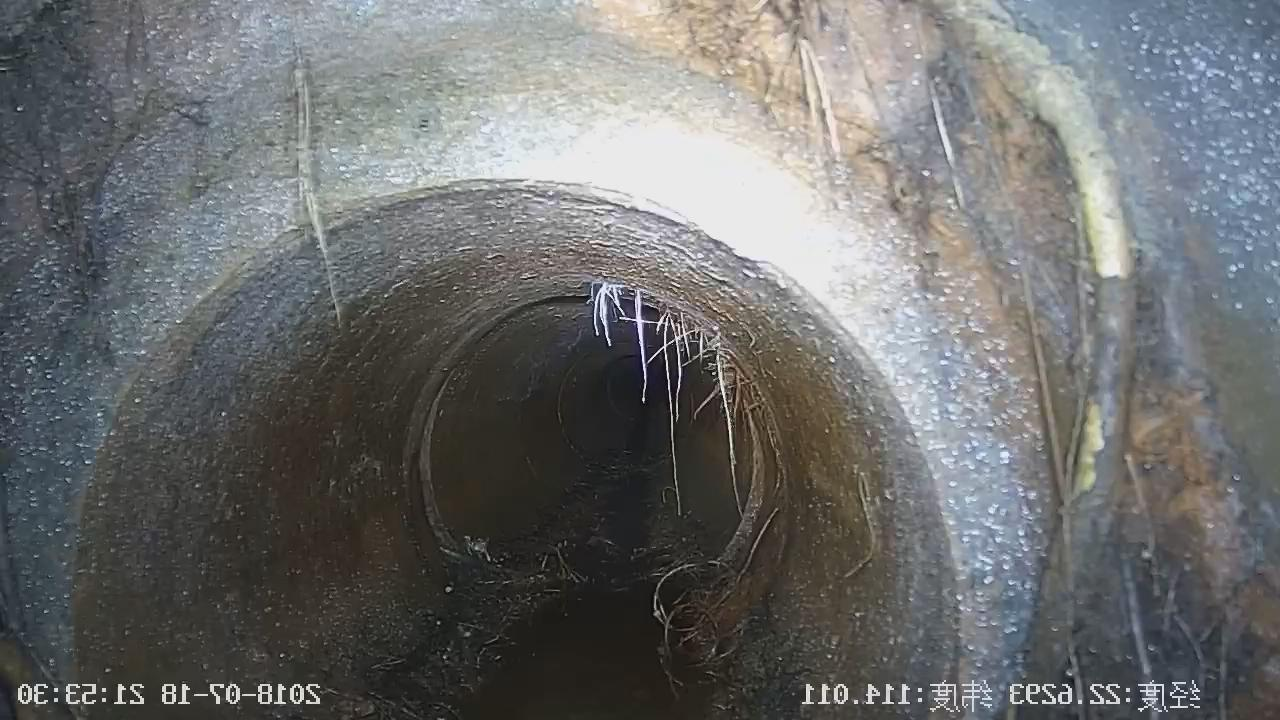SG: (587, 281, 785, 661)
